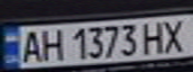1: (66, 25, 87, 60)
3: (118, 21, 142, 56), (84, 24, 106, 60)
7: (103, 22, 121, 58)
A: (15, 28, 45, 64)
H: (36, 26, 66, 62), (139, 19, 169, 55)
X: (157, 16, 193, 53)
